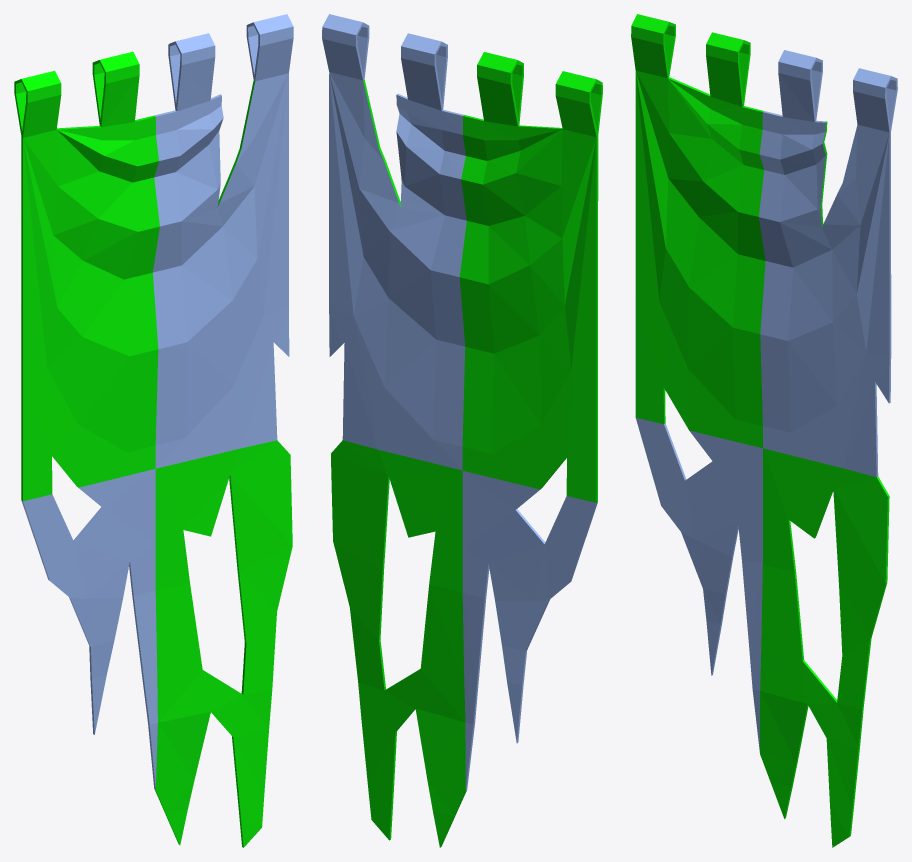
Rendered from SM_Flag_Banner_Medium_E_Broken_Fantasy.fbx.
3 views of the same model, side by side, from view 1: azimuth 30°, elevation 25°; view 2: azimuth 150°, elevation 25°; view 3: azimuth 330°, elevation 25° (orthographic). The views are drawn at different scales.
Visible parts, largest first — view 1: flag-banner-medium-e-broken-fantasy; view 2: flag-banner-medium-e-broken-fantasy; view 3: flag-banner-medium-e-broken-fantasy.
Part boxes in pixels (left/top/right/bottom): flag-banner-medium-e-broken-fantasy: left=14, top=14, right=293, bottom=847; flag-banner-medium-e-broken-fantasy: left=322, top=14, right=602, bottom=847; flag-banner-medium-e-broken-fantasy: left=631, top=14, right=897, bottom=847.
Bounding box in the file's own units: 0.9571 × 2.8 × 0.1012.
